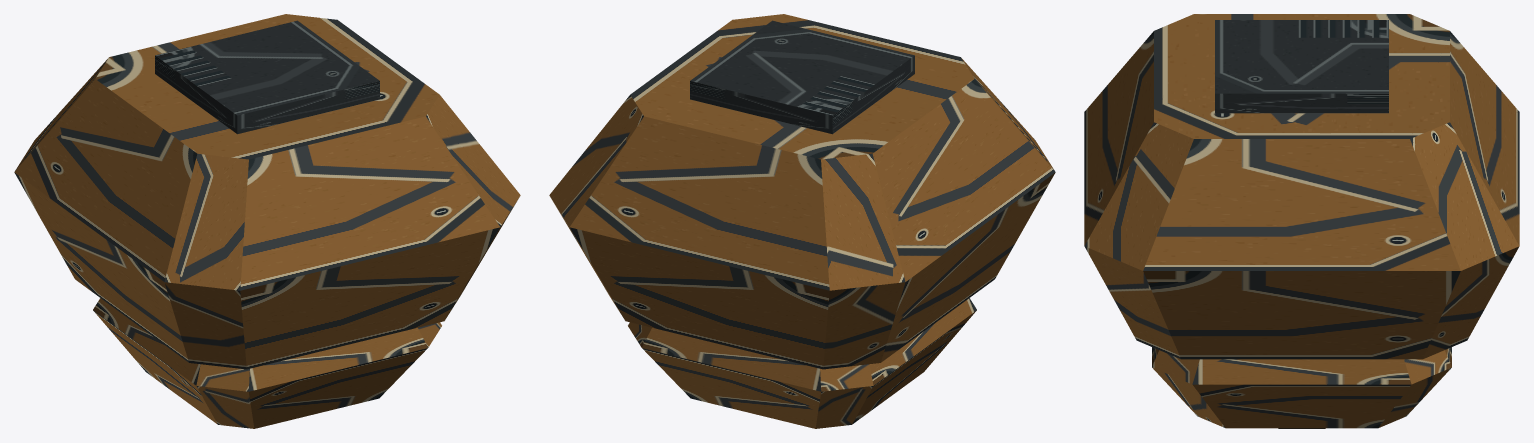
The model's file is motion.glb.
The picture shows the model from 3 angles, left to right: view 1: azimuth 30°, elevation 25°; view 2: azimuth 150°, elevation 25°; view 3: azimuth 270°, elevation 25°; orthographic projection. The views are drawn at different scales.
Visible parts, largest first — view 1: STProp_motion_Body; view 2: STProp_motion_Body; view 3: STProp_motion_Body.
Part boxes in pixels (box(x1,y1,x2,y2)): STProp_motion_Body: box(14, 14, 520, 428); STProp_motion_Body: box(549, 14, 1055, 428); STProp_motion_Body: box(1084, 14, 1519, 428).
Bounding box in the file's own units: 0.5 × 0.455 × 0.5.
4 materials, 3 textured.
